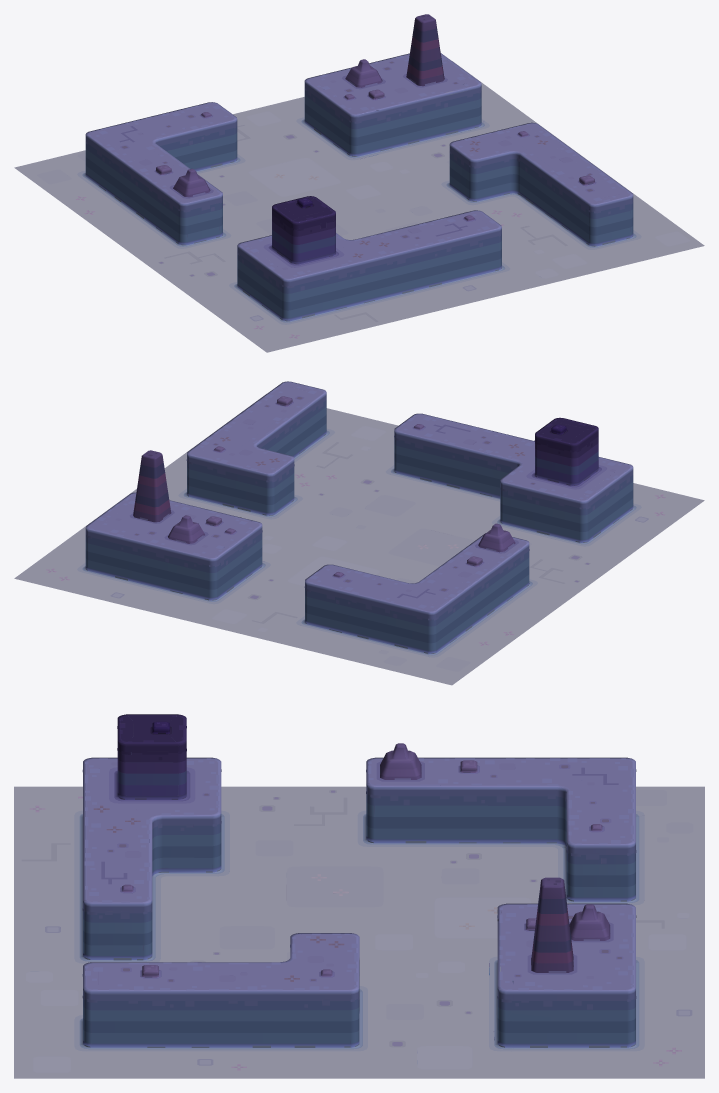
The model's file is C_cave1_01.fbx.
The picture shows the model from 3 angles, top to bottom: view 1: azimuth 30°, elevation 25°; view 2: azimuth 150°, elevation 25°; view 3: azimuth 270°, elevation 25°; orthographic projection. The views are drawn at different scales.
Parts seen in each view (by area): view 1: C_cave1_01.001; view 2: C_cave1_01.001; view 3: C_cave1_01.001.
Boxes of the visible parts, box(x1,y1,x2,y2) form: C_cave1_01.001: box(14, 14, 704, 352); C_cave1_01.001: box(14, 381, 704, 685); C_cave1_01.001: box(14, 714, 704, 1078).
Bounding box in the file's own units: 50 × 11.34 × 50.
Materials: 1 (1 with a texture image).
